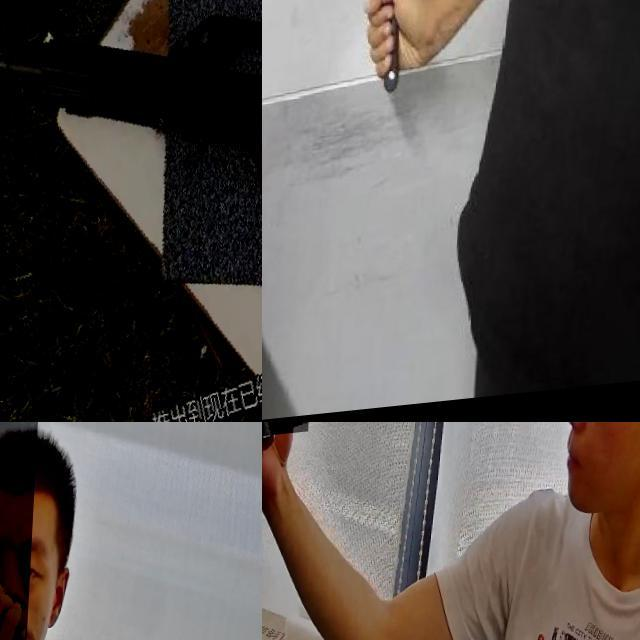-: (355, 0, 427, 87)
gun-knife-thesis - v11 Yolov5 augmented: (0, 0, 262, 422), (0, 422, 79, 640), (262, 422, 321, 549)
